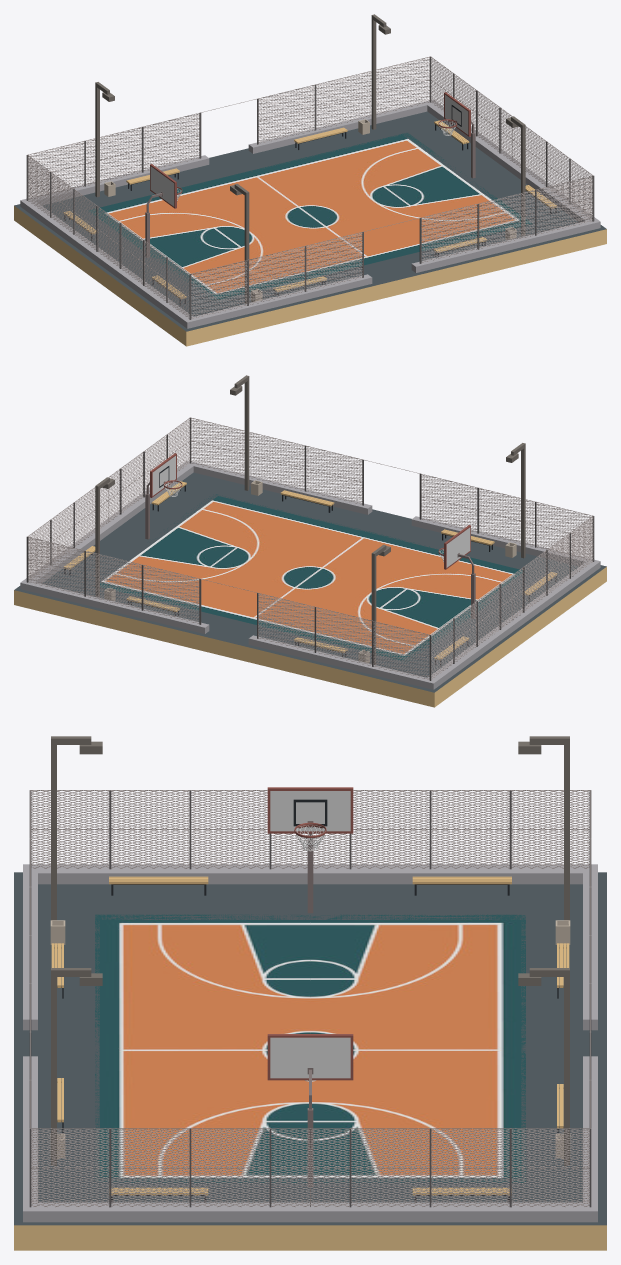
The picture shows the model from 3 angles, top to bottom: view 1: azimuth 30°, elevation 25°; view 2: azimuth 150°, elevation 25°; view 3: azimuth 270°, elevation 25°; orthographic projection. The views are drawn at different scales.
Visible parts, largest first — view 1: Base, Court, Light Pillars, Benches, Basketball_Stand, Mesh_Bars, Dust_Bin; view 2: Base, Court, Light Pillars, Benches, Basketball_Stand, Mesh_Bars, Dust_Bin; view 3: Base, Court, Basketball_Stand, Light Pillars, Benches, Mesh_Bars, Dust_Bin.
Part boxes in pixels (x1,y1,x2,y2): Base: [14, 57, 606, 346]; Court: [88, 133, 532, 300]; Light Pillars: [95, 14, 525, 303]; Benches: [63, 120, 556, 305]; Basketball_Stand: [145, 92, 475, 257]; Mesh_Bars: [27, 56, 593, 296]; Dust_Bin: [104, 119, 516, 302]; Base: [14, 418, 606, 707]; Court: [100, 494, 522, 662]; Light Pillars: [95, 375, 525, 664]; Benches: [64, 481, 557, 666]; Basketball_Stand: [145, 453, 475, 618]; Mesh_Bars: [27, 417, 593, 657]; Dust_Bin: [104, 480, 516, 663]; Base: [14, 790, 606, 1250]; Court: [95, 914, 525, 1182]; Basketball_Stand: [267, 787, 353, 1186]; Light Pillars: [51, 736, 569, 1165]; Benches: [51, 876, 569, 1202]; Mesh_Bars: [30, 790, 590, 1168]; Dust_Bin: [50, 920, 570, 1158].
Size of the model in its own units: 579 by 169 by 411.
13 materials, 1 textured.
